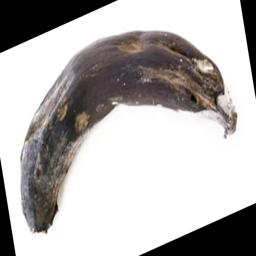Banana Rotten: (6, 21, 256, 241)
